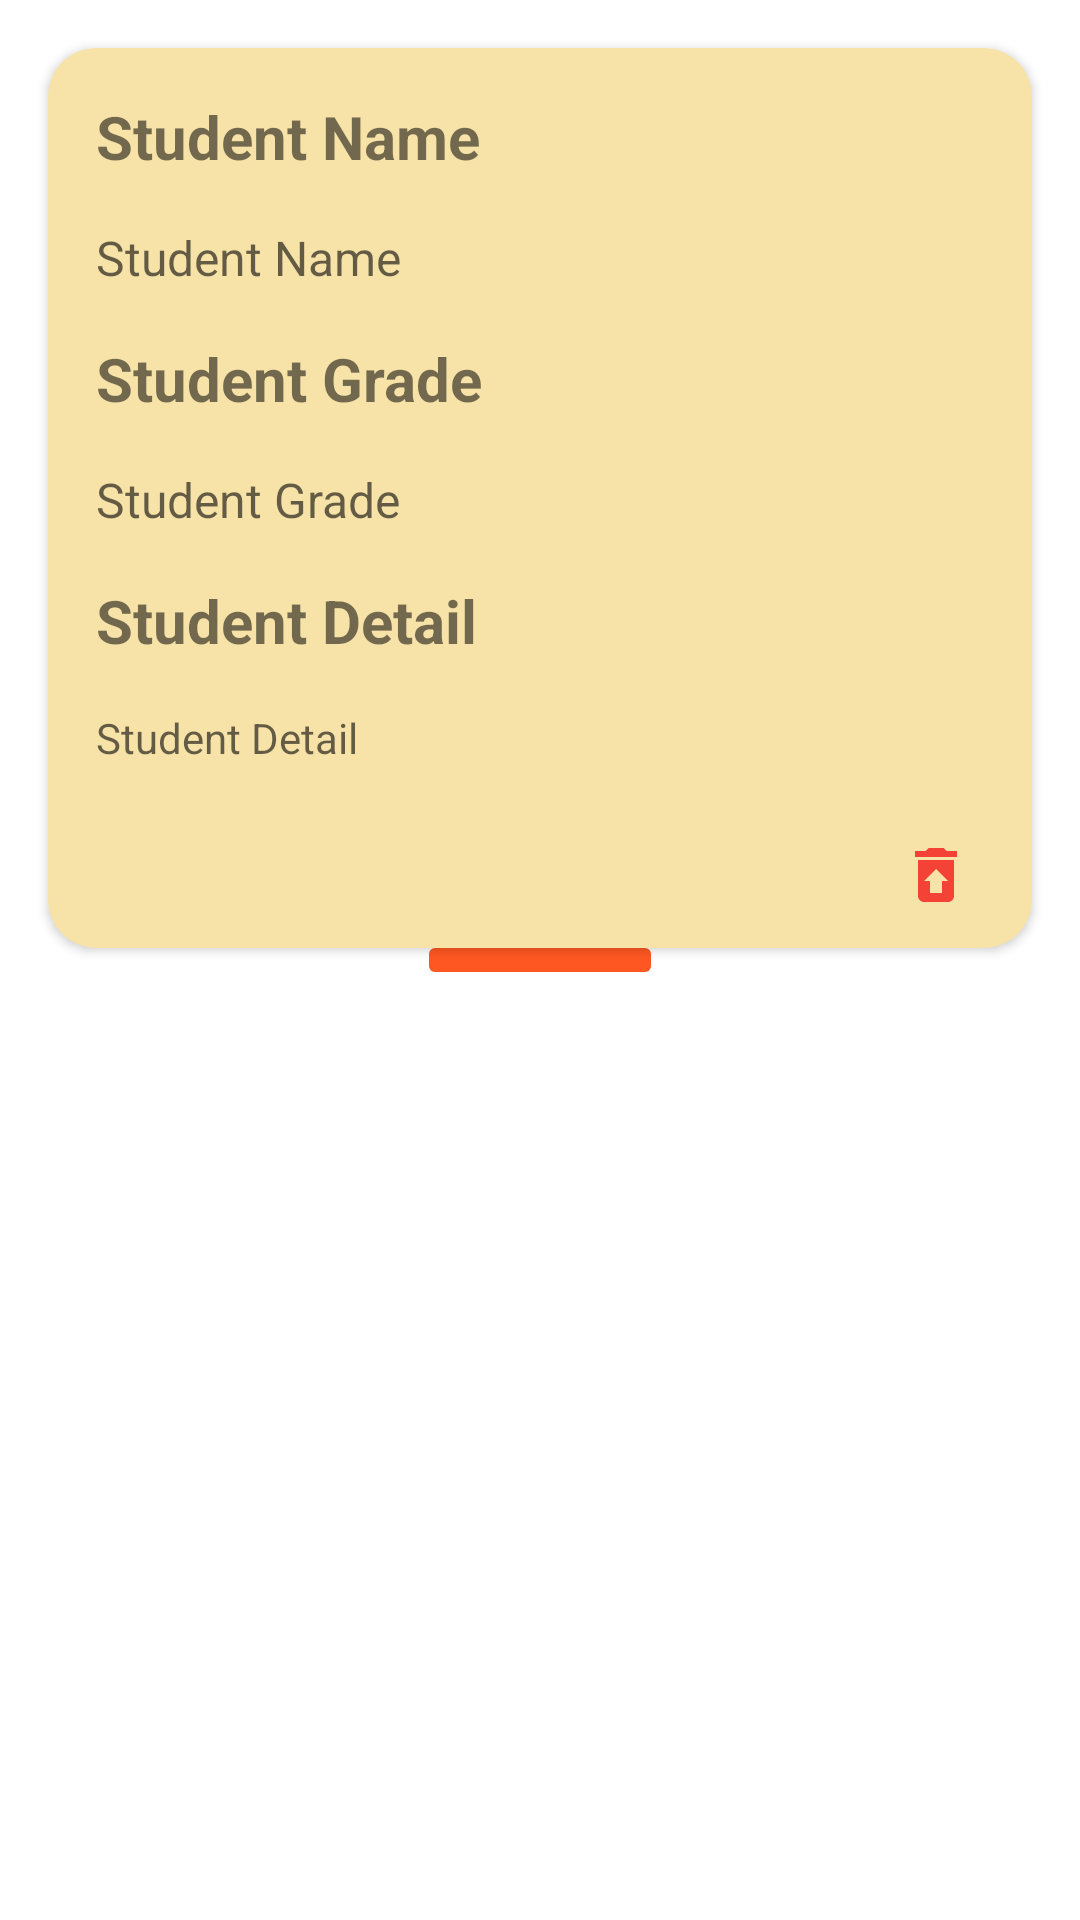

Screen size 1080px×1920px. Icon name, then its box in pixels as (left=x1, top=y1, right=x2, bottom=y2):
delet: (left=915, top=848, right=957, bottom=902)
